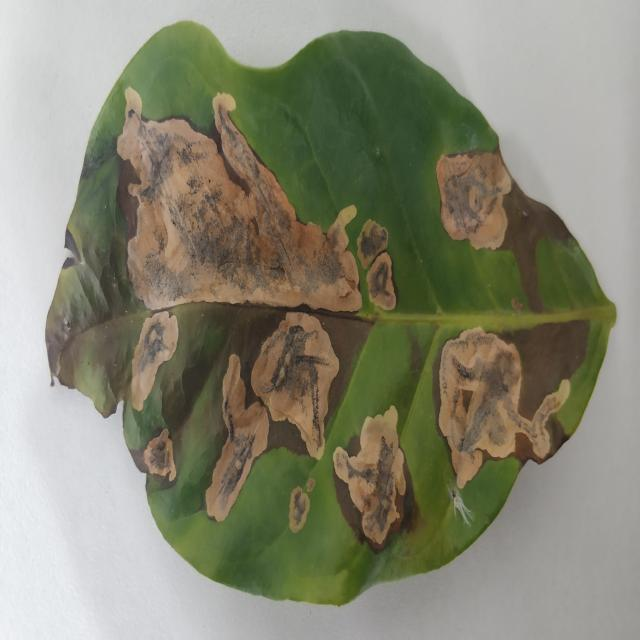Plaga-Minador: (44, 20, 618, 609)
